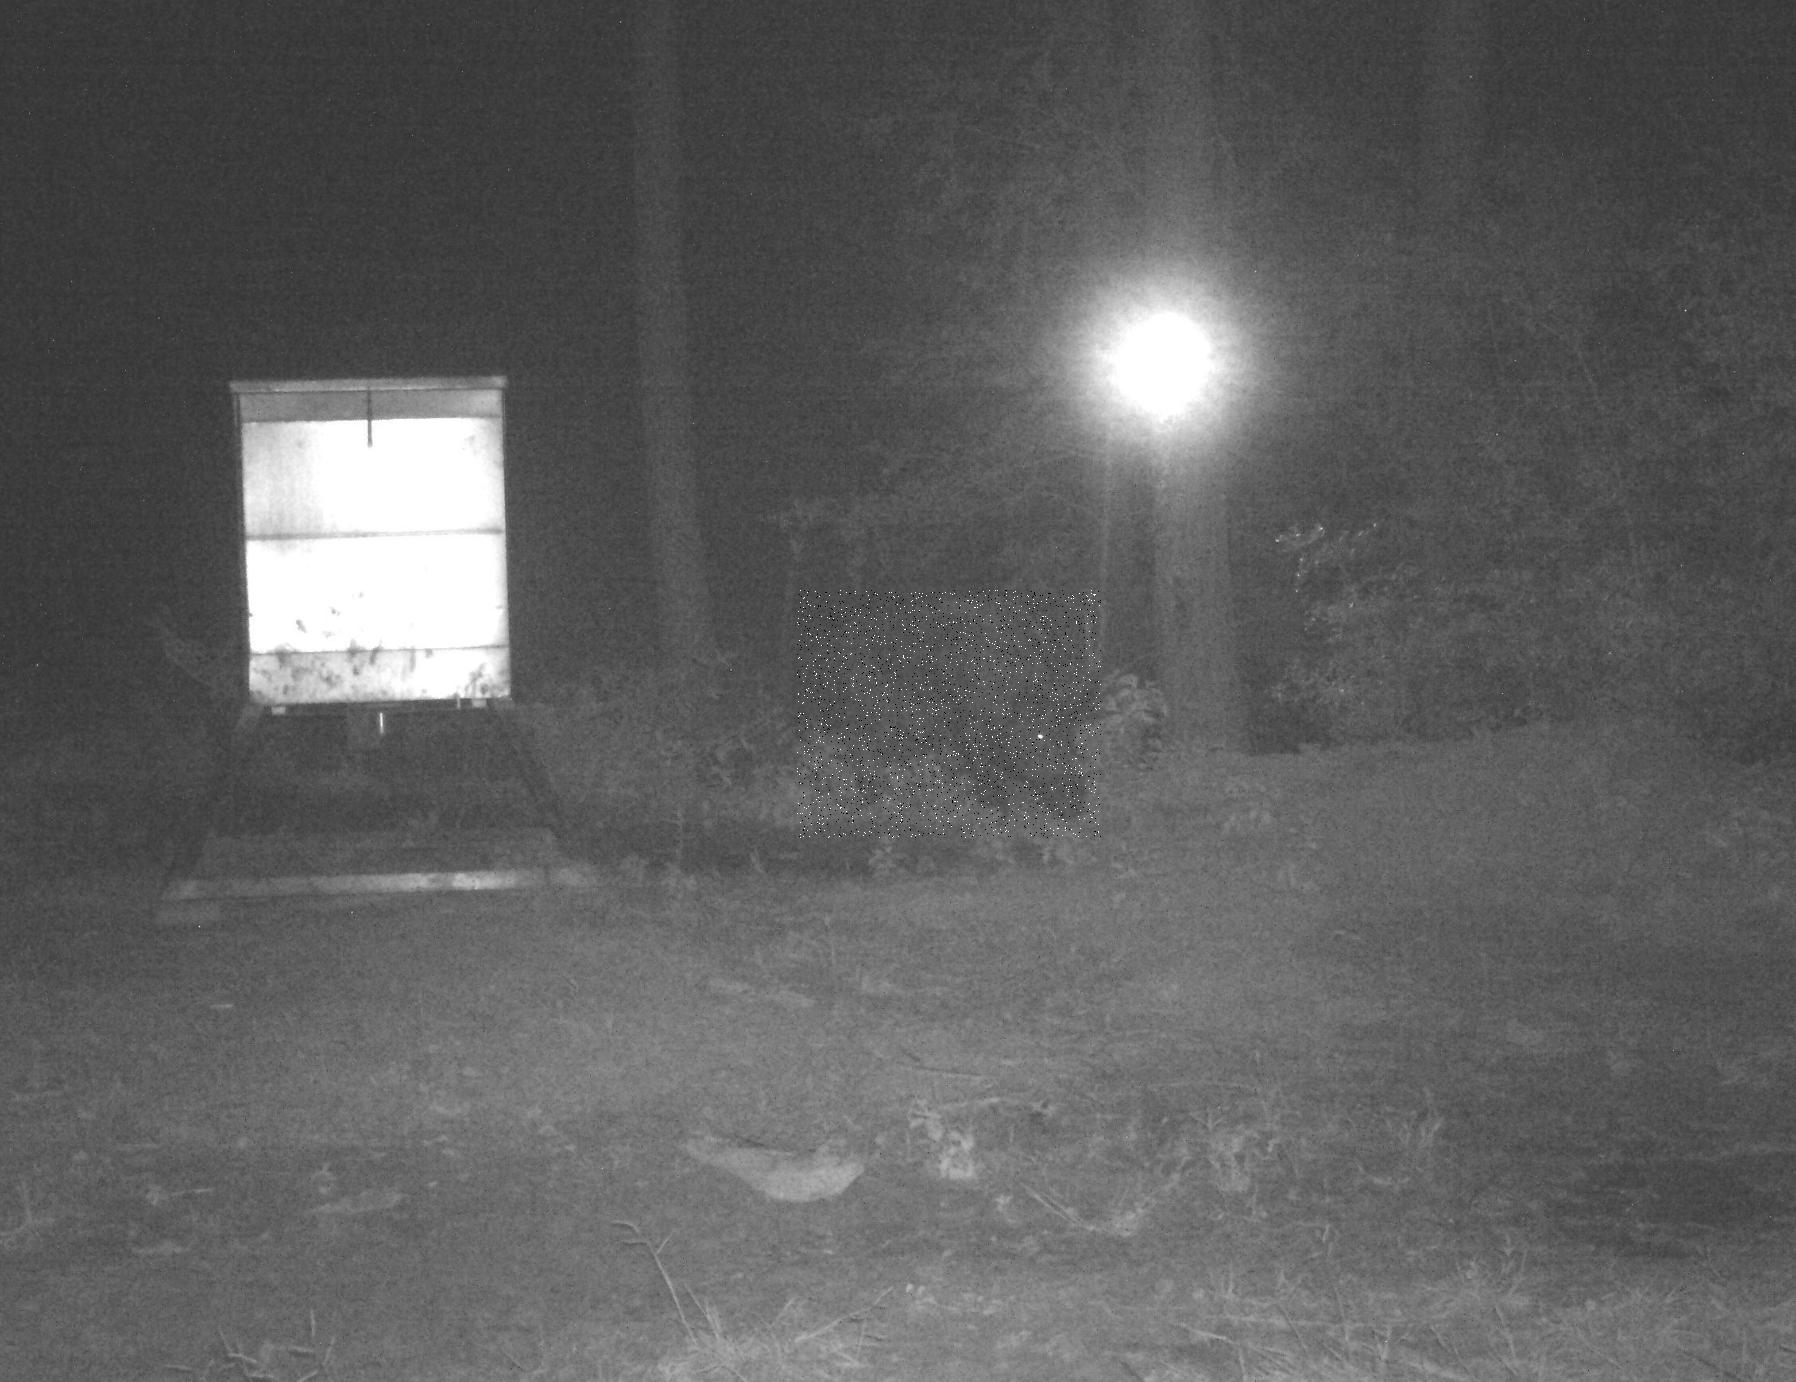Hog: (797, 589, 1101, 838)
